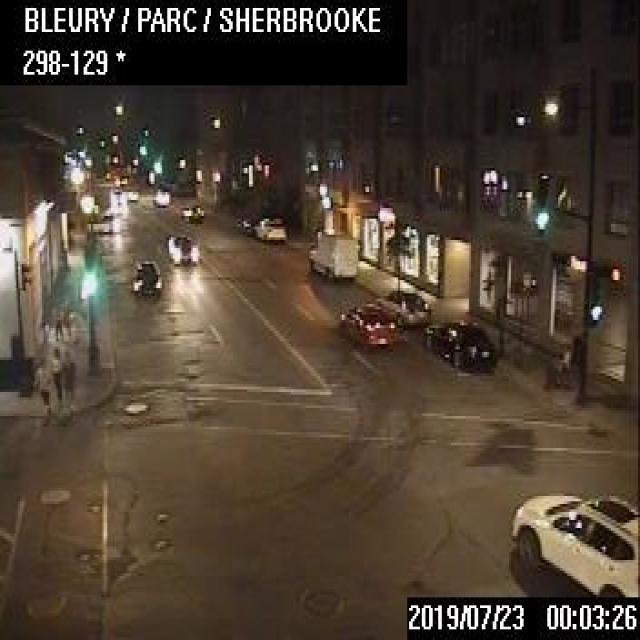pedestrian: (60, 349, 74, 399), (50, 345, 60, 399), (39, 373, 49, 416), (54, 304, 62, 338)
vehicle: (507, 488, 638, 592), (421, 318, 496, 371), (306, 226, 358, 278), (340, 300, 396, 346), (374, 288, 429, 329), (130, 257, 162, 296), (252, 212, 286, 240), (168, 234, 196, 264), (179, 202, 203, 221), (152, 188, 170, 205)
